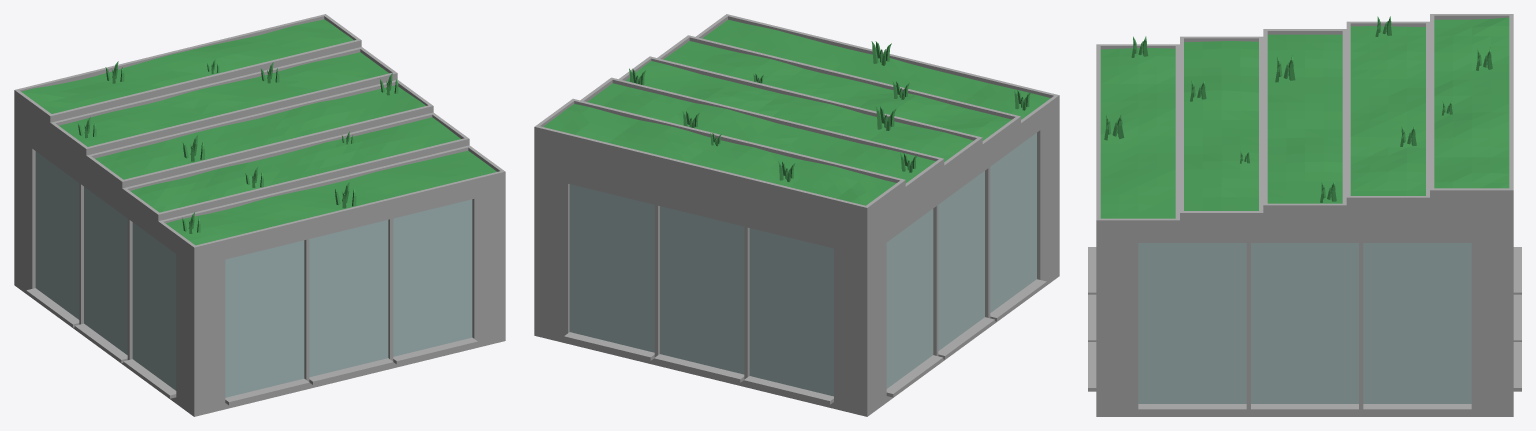
Rendered from TopElement0.fbx.
3 renders of one model, left to right at view 1: azimuth 30°, elevation 25°; view 2: azimuth 150°, elevation 25°; view 3: azimuth 270°, elevation 25°, orthographic. The views are drawn at different scales.
Parts seen in each view (by area): view 1: TopElement01; view 2: TopElement01; view 3: TopElement01.
Boxes of the visible parts, bbox=[...] form: TopElement01: bbox=[14, 14, 505, 416]; TopElement01: bbox=[534, 14, 1059, 416]; TopElement01: bbox=[1088, 14, 1521, 416].
Size of the model in its own units: 104 by 64.26 by 104.
